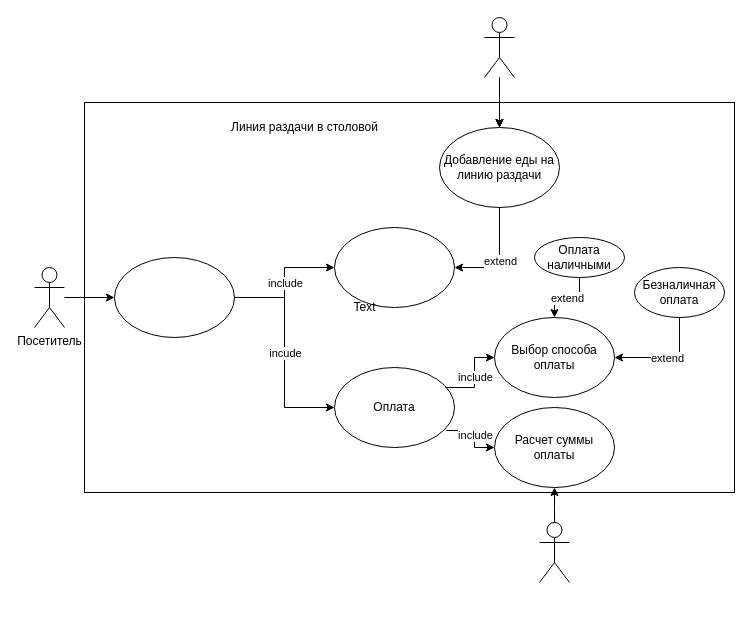
Some shapes in this 752 by 621 pixel diagram are drawn without their labels. The shapes that lost their labels are listed below. From the top down, each one's box as (x1, y1, x2, y2) in pixels, then its label:
(484, 16, 514, 78): Сотрудник выдачи
(334, 226, 454, 308): Выбор еды
(114, 256, 234, 338): Покупка
(538, 522, 570, 582): Кассир
